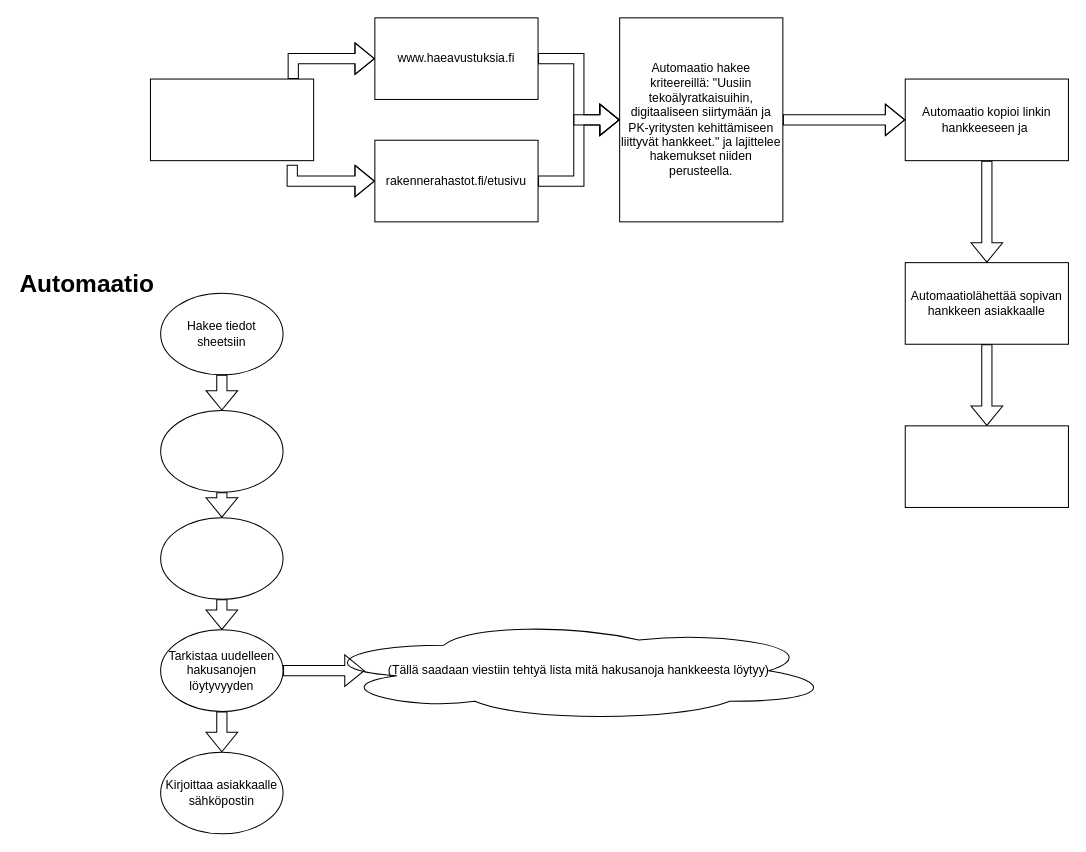
This 1086x852 diagram has some shape labels left out. Each missing label, with the centre of its shape:
"Asiakas saa sähköpostin uusista hankeista" belongs at (x=986, y=466).
"Automaatio hakee hankkeet palvelusta ja säilyttää excelin" belongs at (x=231, y=119).
"Etsii niistä hakusanoja" belongs at (x=221, y=451).
"Kopioi otsikon ja linkin hankkeeseen" belongs at (x=221, y=558).
